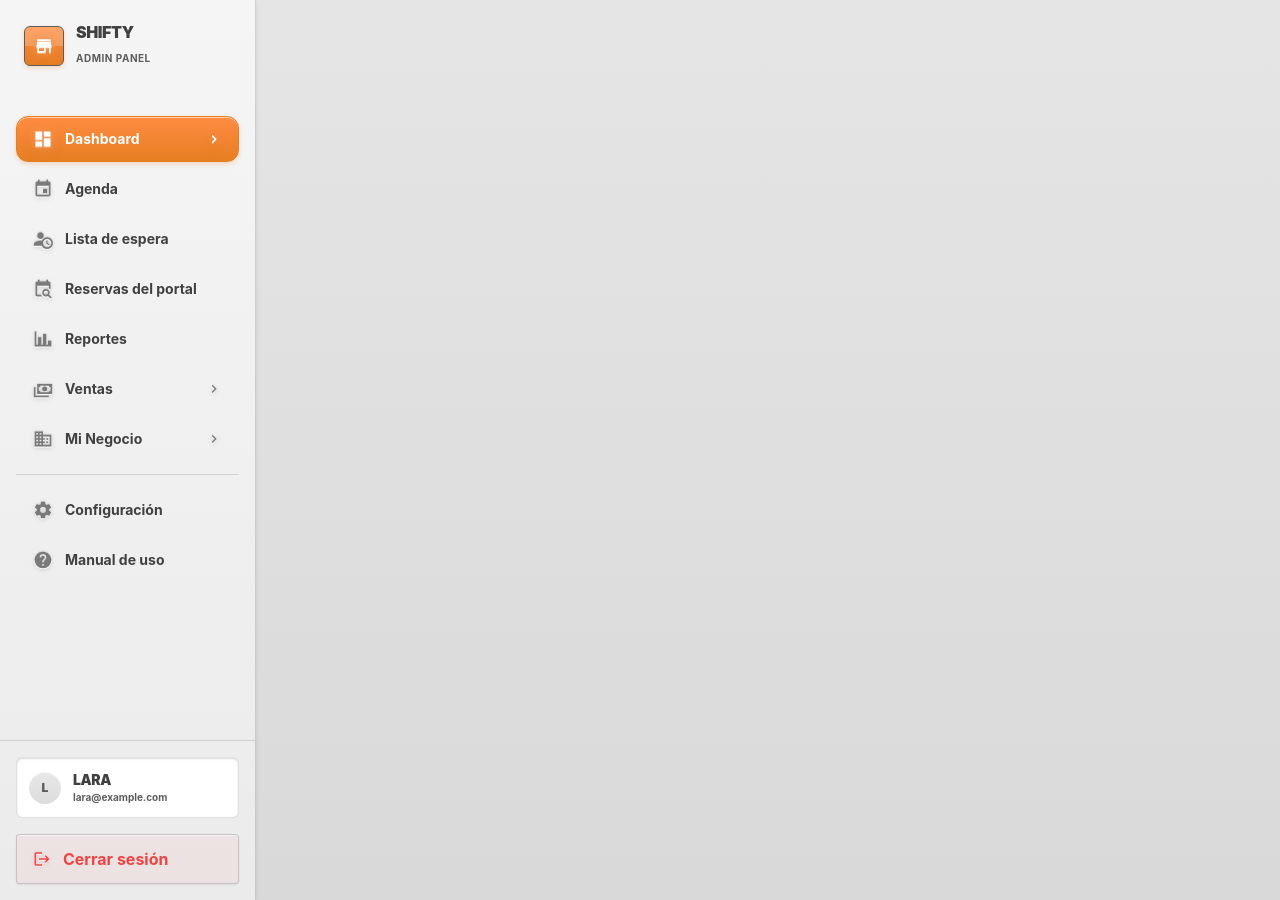
Sidebar › shows admin-only links inside their group once expanded, for a global admin
Expected: the link "Usuarios" is not shown
Expected: the link "Promociones" is not shown
Click the button "Mi Negocio" at (128, 439), box 16,416 -> 239,462
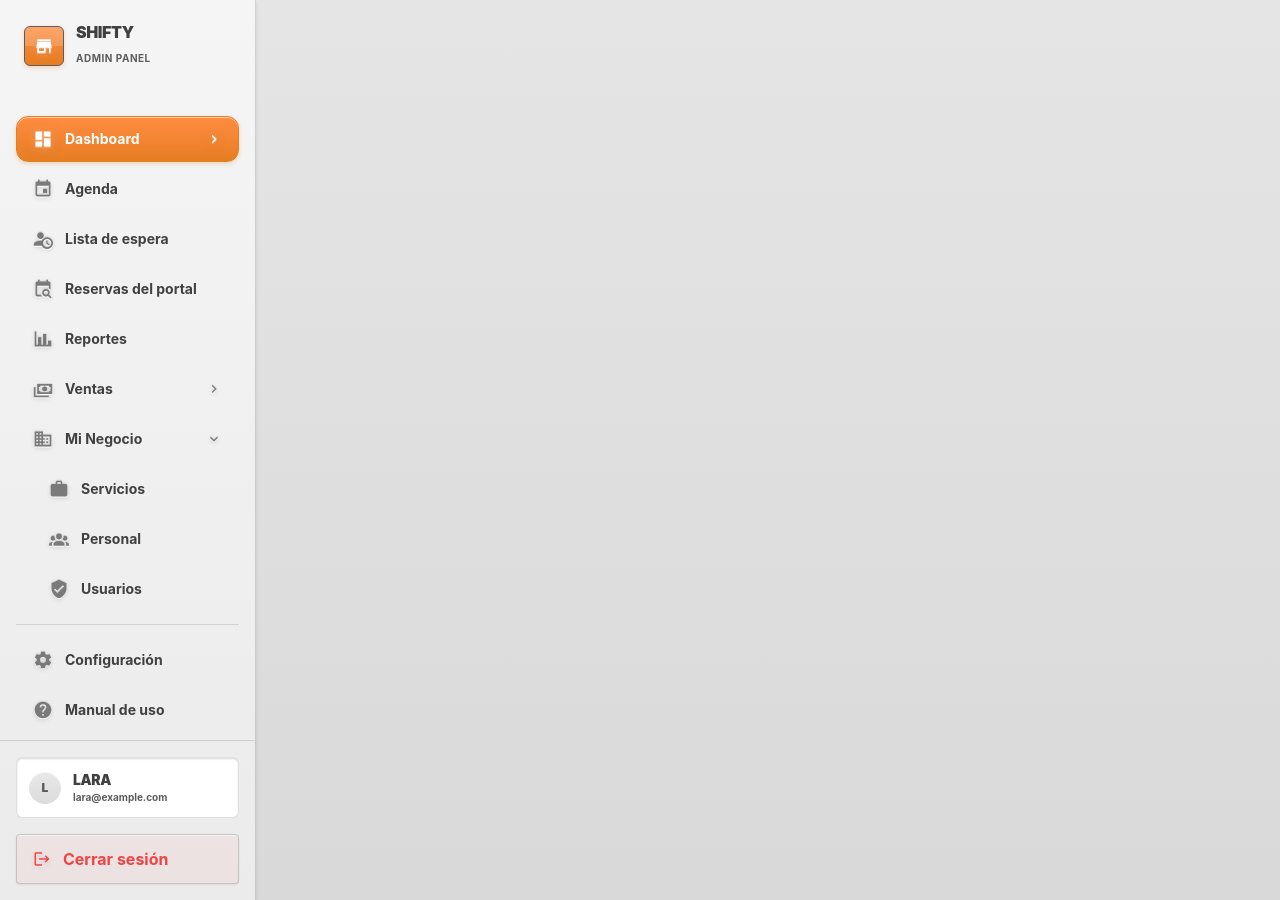
Expected: the link "Usuarios" is shown, 49,579 -> 142,599
Click the button "Ventas" at (128, 389), box 16,366 -> 239,412
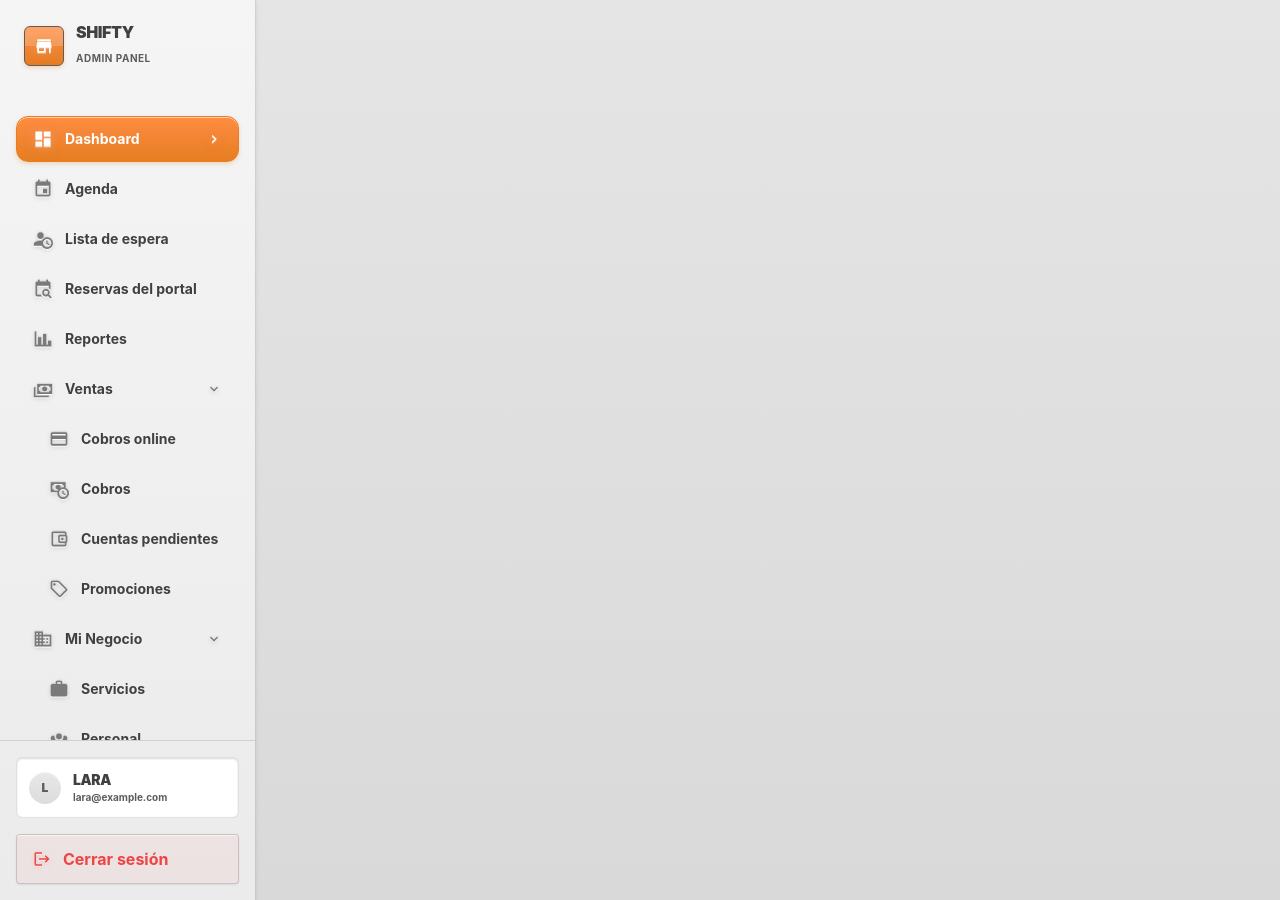
Expected: the link "Promociones" is shown, 49,579 -> 171,599
